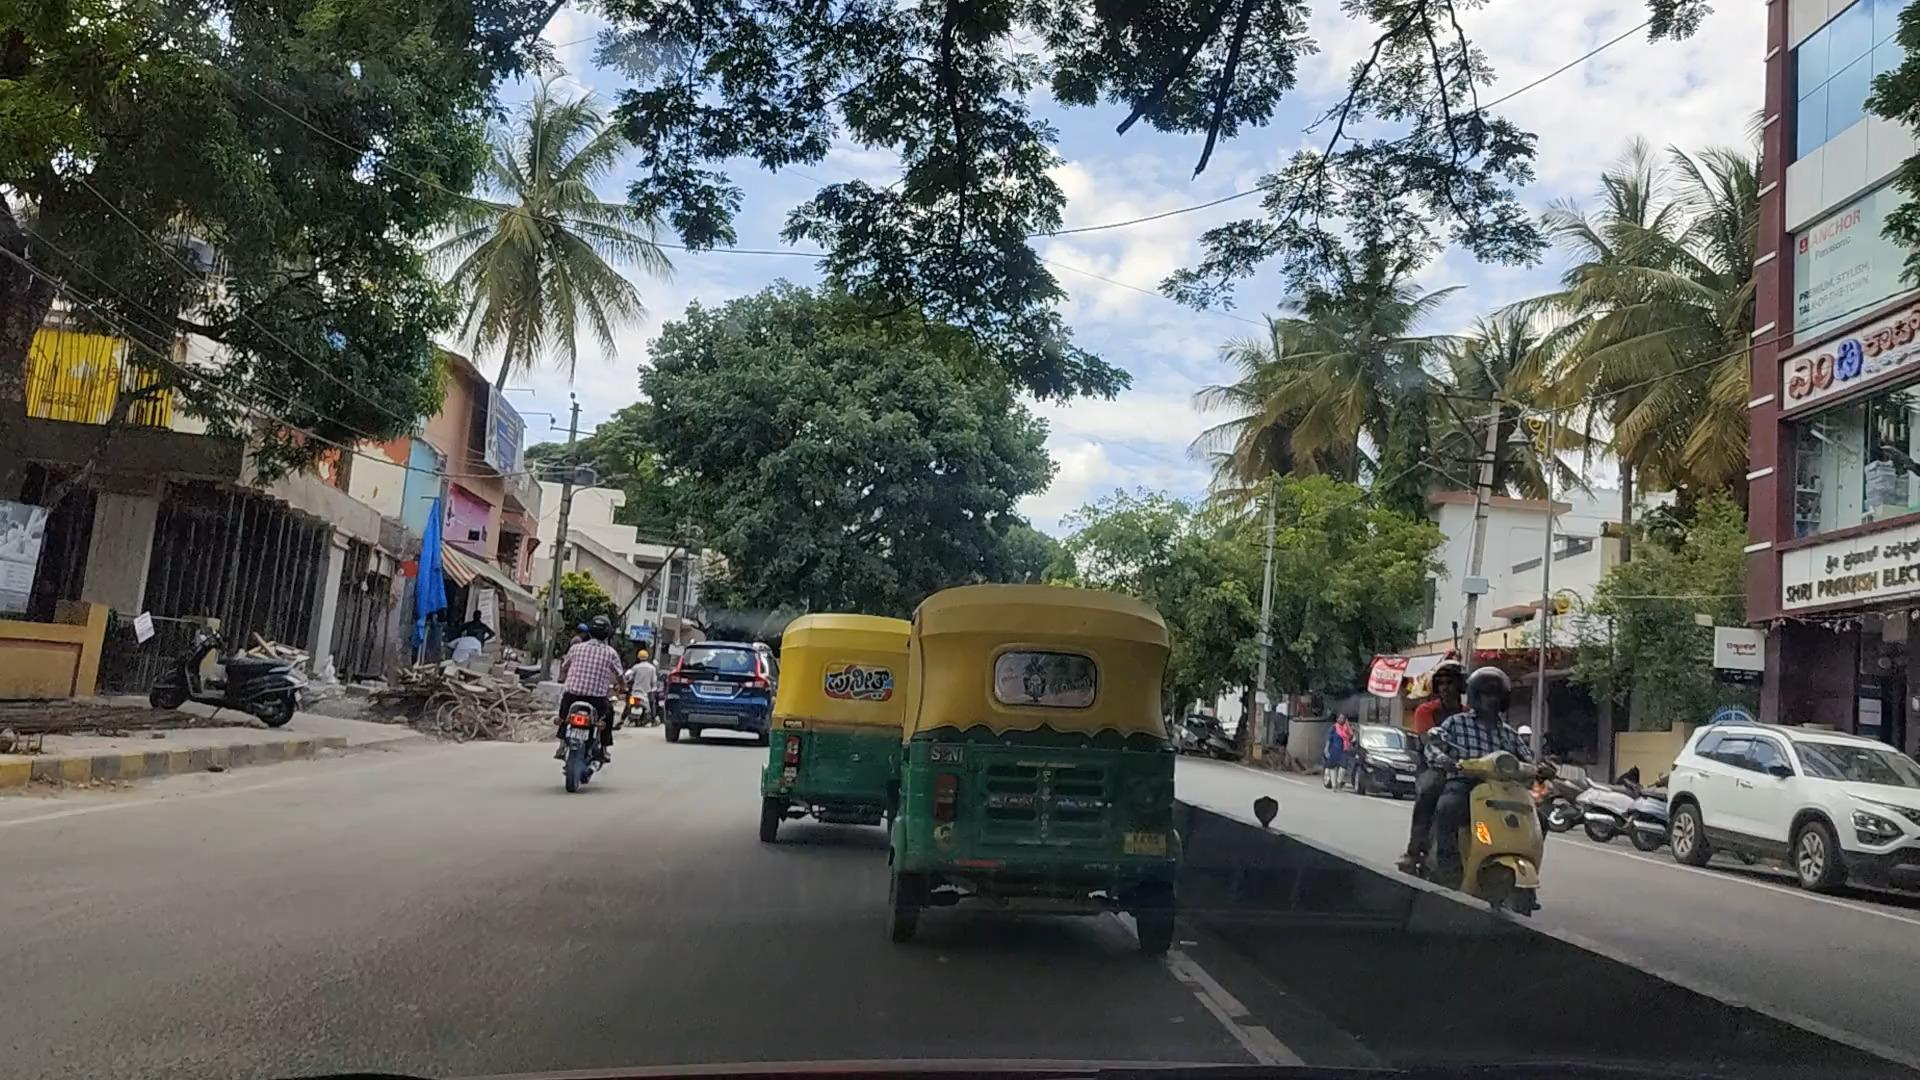LMV: (903, 608, 1209, 936), (756, 621, 905, 824), (543, 608, 640, 800)
RoadDamages: (103, 915, 617, 1080)
